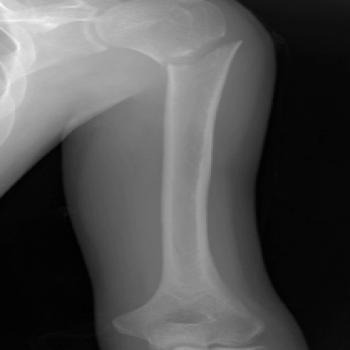Fracture: (158, 26, 258, 73)
